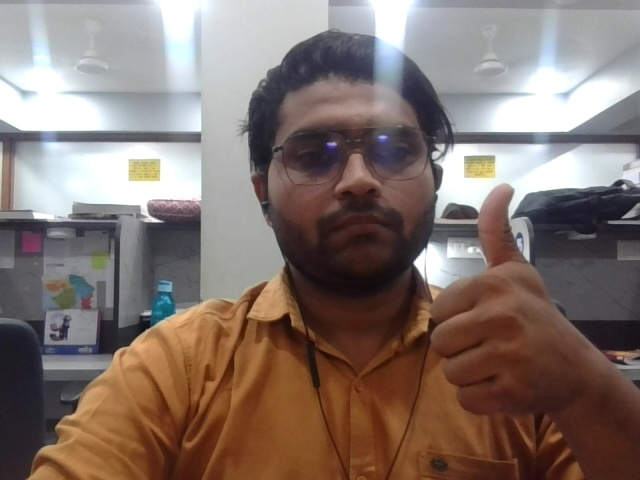ThumbsUp: (433, 178, 567, 418)
